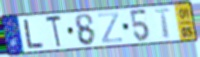5: (129, 7, 151, 44)
8: (73, 13, 97, 47)
L: (22, 18, 46, 50)
T: (44, 14, 64, 50), (153, 8, 173, 40)
Z: (97, 12, 124, 45)
